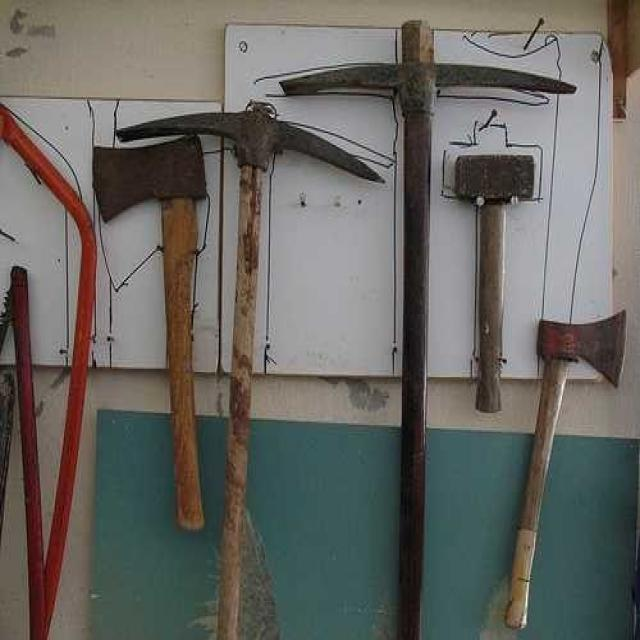hammer: (456, 154, 535, 413)
